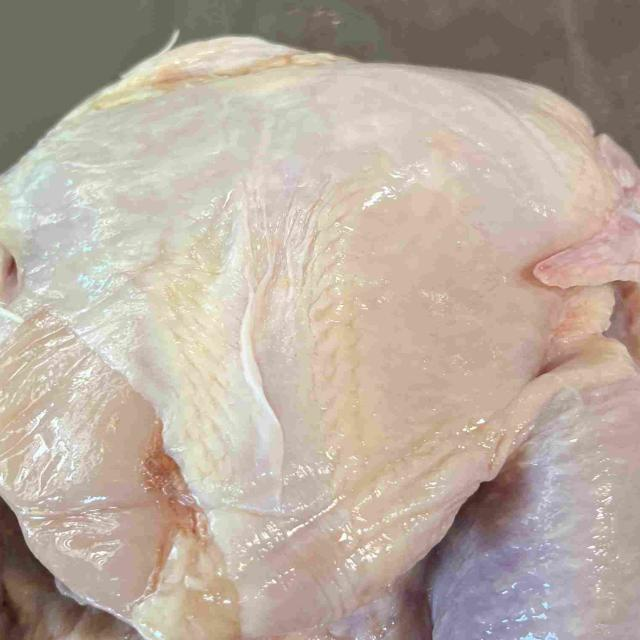breast: (0, 75, 600, 640)
leg: (422, 353, 640, 640)
